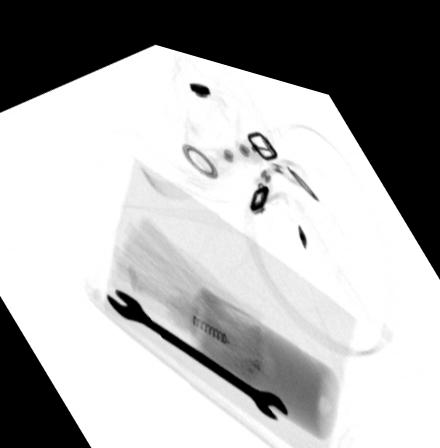Wrench: (103, 279, 287, 406)
